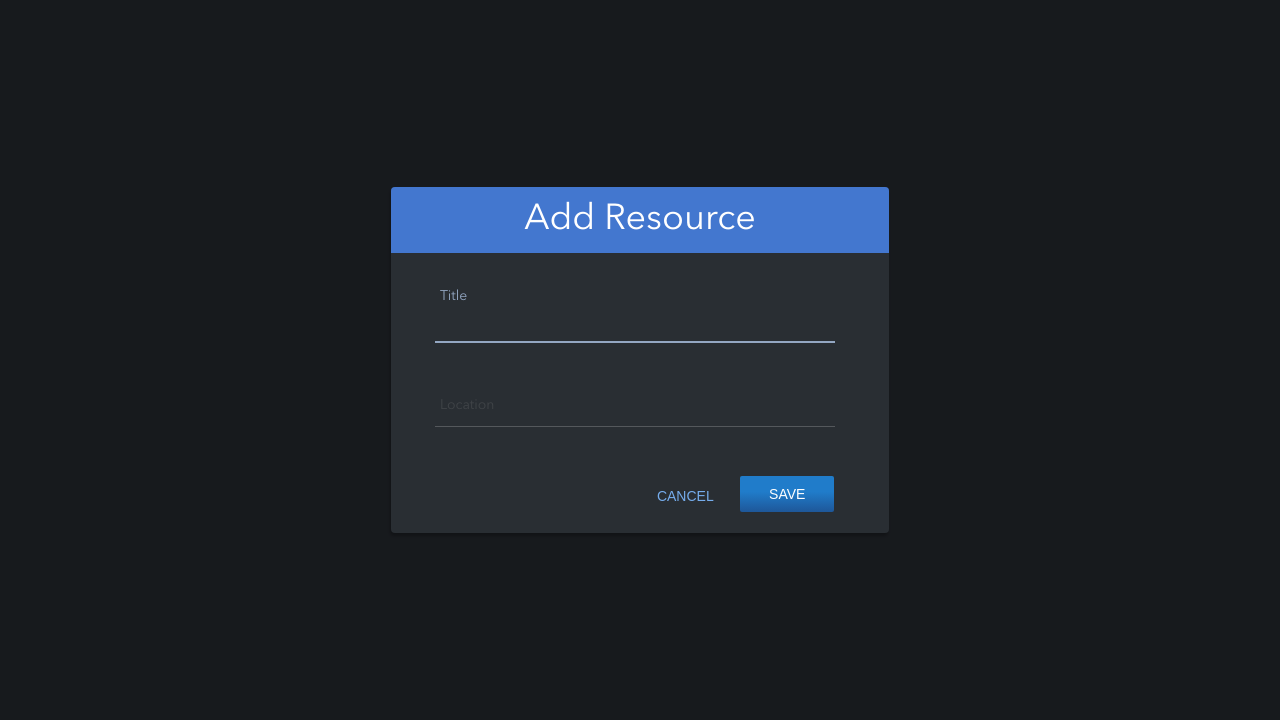
Scenario: AddResourcePopup › should stop you from inputting an empty title and url
Click the button with class "saveButton" at x=787, y=494, box x1=740 y1=476 x2=834 y2=512
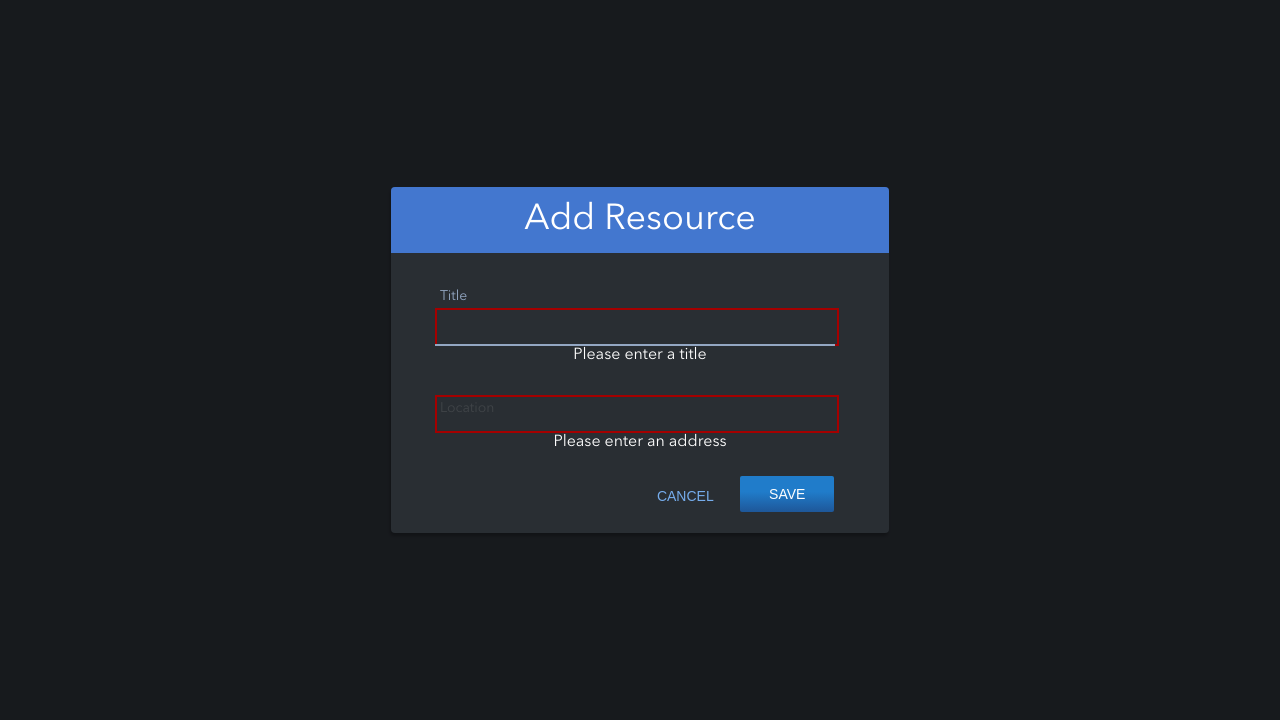
expect the text with class "titleError" reads "Please enter a title": met, box x1=573 y1=347 x2=707 y2=363
expect the text with class "urlError" reads "Please enter an address": met, box x1=553 y1=434 x2=727 y2=450
